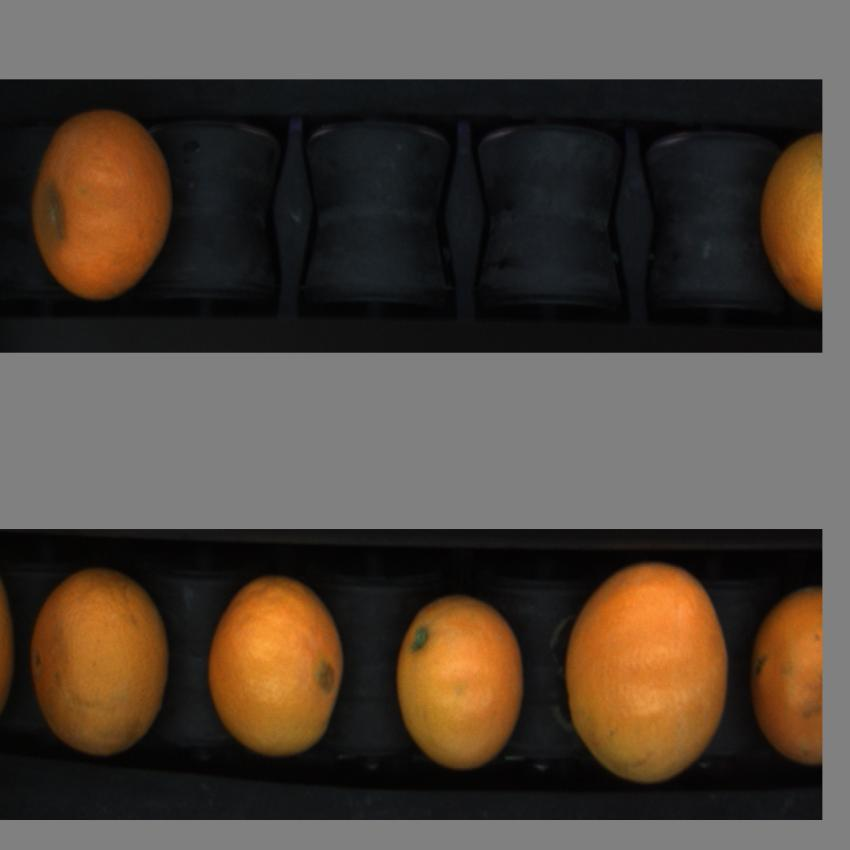Buen estado: (565, 557, 732, 790), (203, 571, 347, 781), (26, 568, 178, 760), (395, 584, 529, 798), (752, 124, 823, 316), (750, 582, 823, 768)
Mal estado: (24, 108, 185, 306)
